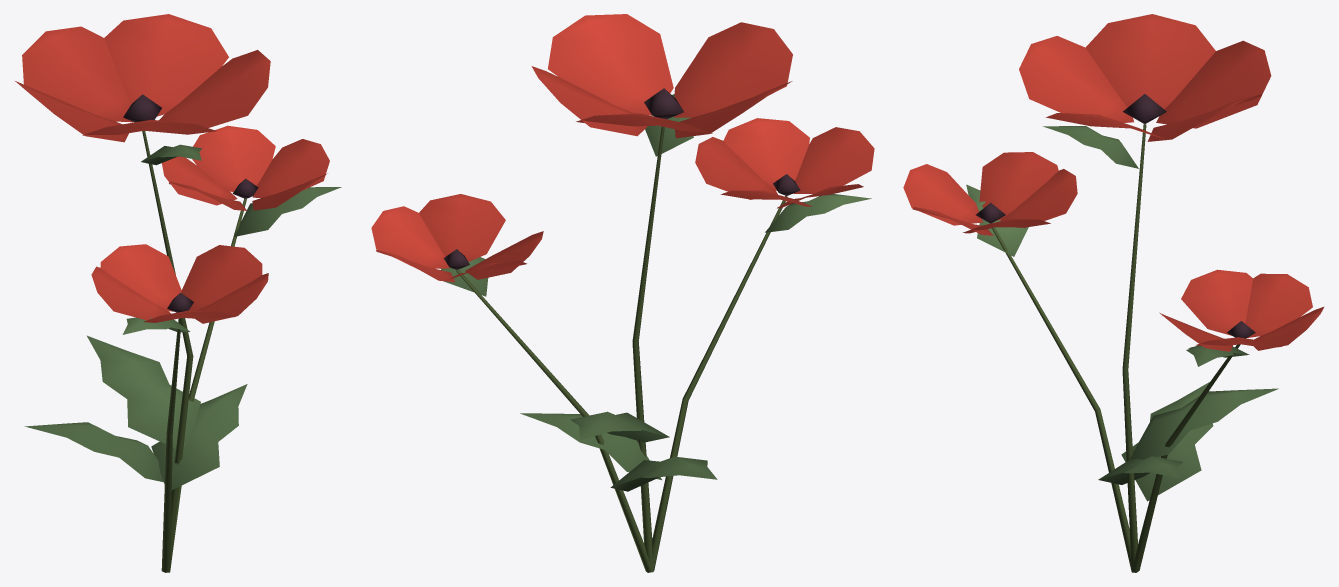
Rendered from scarlet_poppy.glb.
The picture shows the model from 3 angles, left to right: view 1: azimuth 30°, elevation 25°; view 2: azimuth 150°, elevation 25°; view 3: azimuth 270°, elevation 25°; orthographic projection. The views are drawn at different scales.
Parts seen in each view (by area): view 1: scarlet_poppy; view 2: scarlet_poppy; view 3: scarlet_poppy.
Boxes of the visible parts, x1=… form: scarlet_poppy: x1=15, y1=14, x2=341, y2=572; scarlet_poppy: x1=371, y1=14, x2=874, y2=572; scarlet_poppy: x1=903, y1=14, x2=1323, y2=572.
Bounding box in the file's own units: 0.4181 × 0.5861 × 0.4519.
